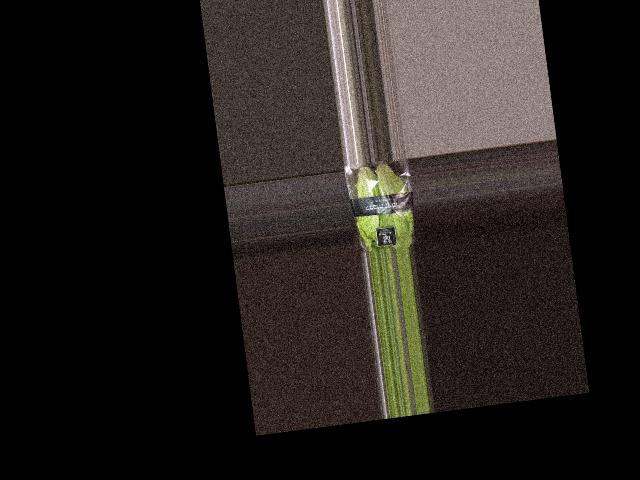lettuce: (343, 157, 415, 253)
